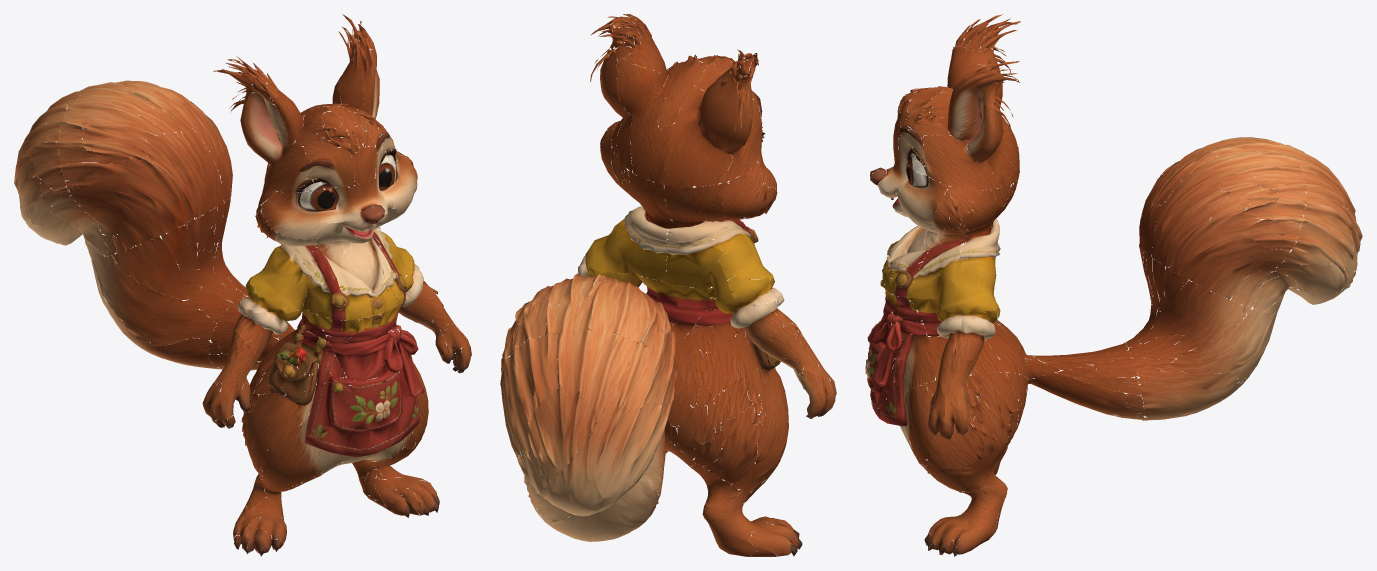
Rendered from 03_market_squirrel-v1.glb.
3 views of the same model, side by side, from view 1: azimuth 30°, elevation 25°; view 2: azimuth 150°, elevation 25°; view 3: azimuth 270°, elevation 25° (orthographic). The views are drawn at different scales.
Visible parts, largest first — view 1: tripo_node_9f15bcb7-3c07-4f65-84fd-720ea83af856; view 2: tripo_node_9f15bcb7-3c07-4f65-84fd-720ea83af856; view 3: tripo_node_9f15bcb7-3c07-4f65-84fd-720ea83af856.
Boxes of the visible parts, x1,y1,x2,y2 form: tripo_node_9f15bcb7-3c07-4f65-84fd-720ea83af856: [14, 14, 471, 556]; tripo_node_9f15bcb7-3c07-4f65-84fd-720ea83af856: [500, 14, 836, 556]; tripo_node_9f15bcb7-3c07-4f65-84fd-720ea83af856: [865, 14, 1362, 556].
Bounding box in the file's own units: 0.9486 × 1.6 × 1.54.
1 material, 1 textured.
